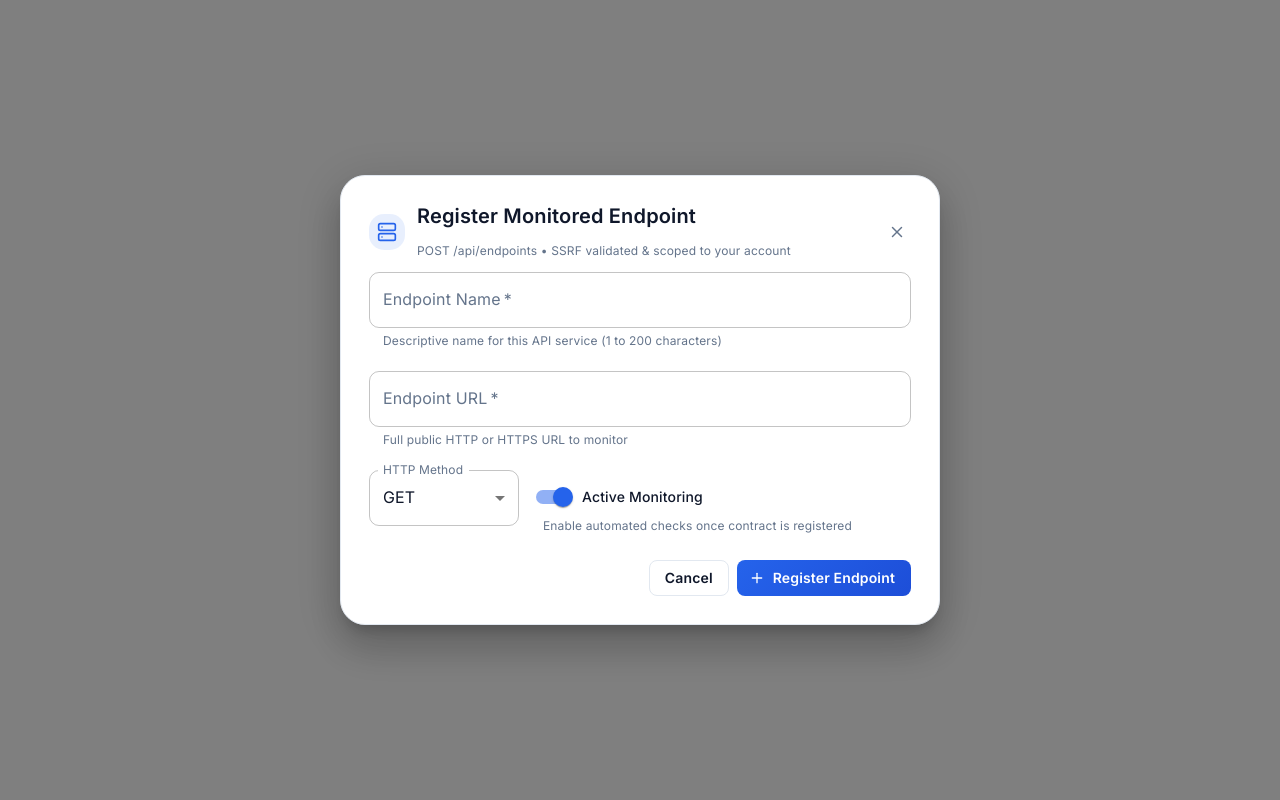
it: AddEndpointDialog › submits valid payload matching backend contract
This screenshot has width=1280, height=800.
Type "Users API" into the field labelled "Endpoint Name *" at (640,300), box x1=369 y1=272 x2=911 y2=328
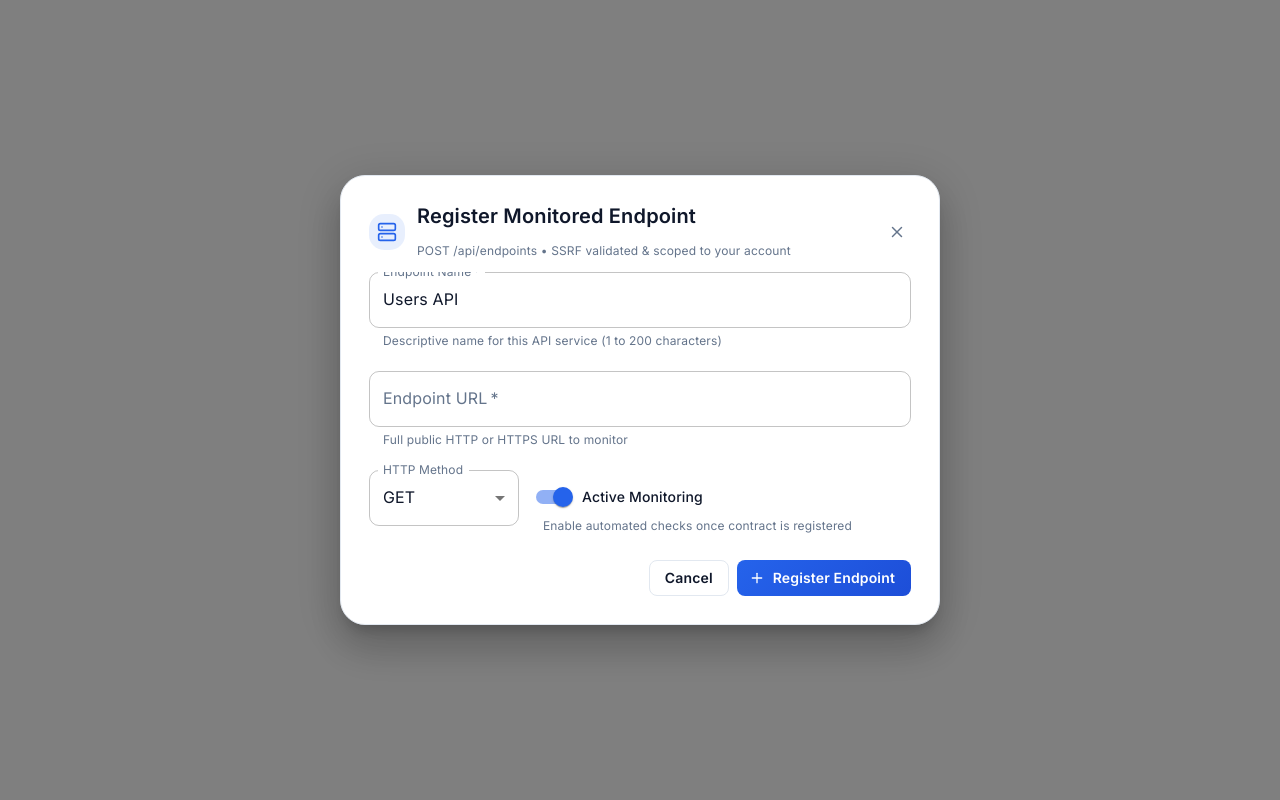
Type "https://api.example.com/v1/users" into the field labelled "Endpoint URL *" at (640,399), box x1=369 y1=371 x2=911 y2=427
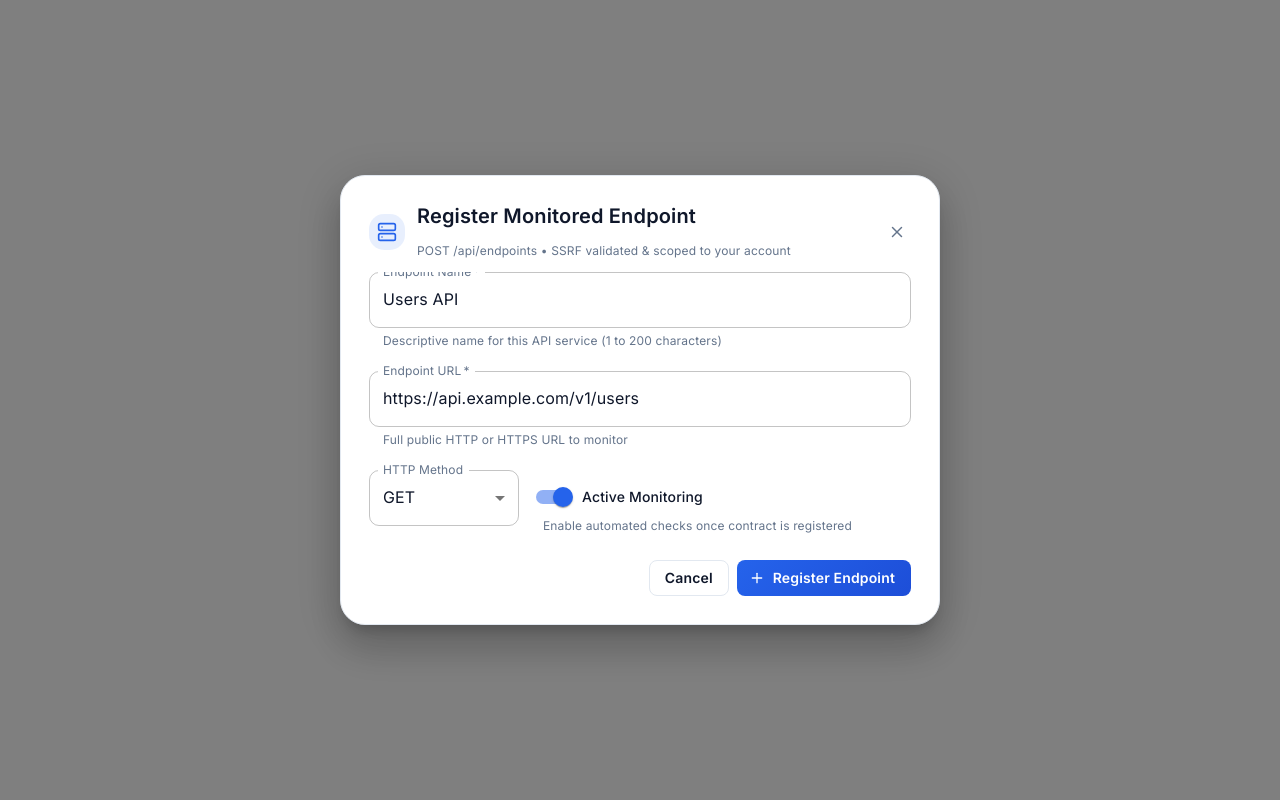
Click the button with test id "submit-endpoint-btn" at (824,578), box x1=737 y1=560 x2=911 y2=596
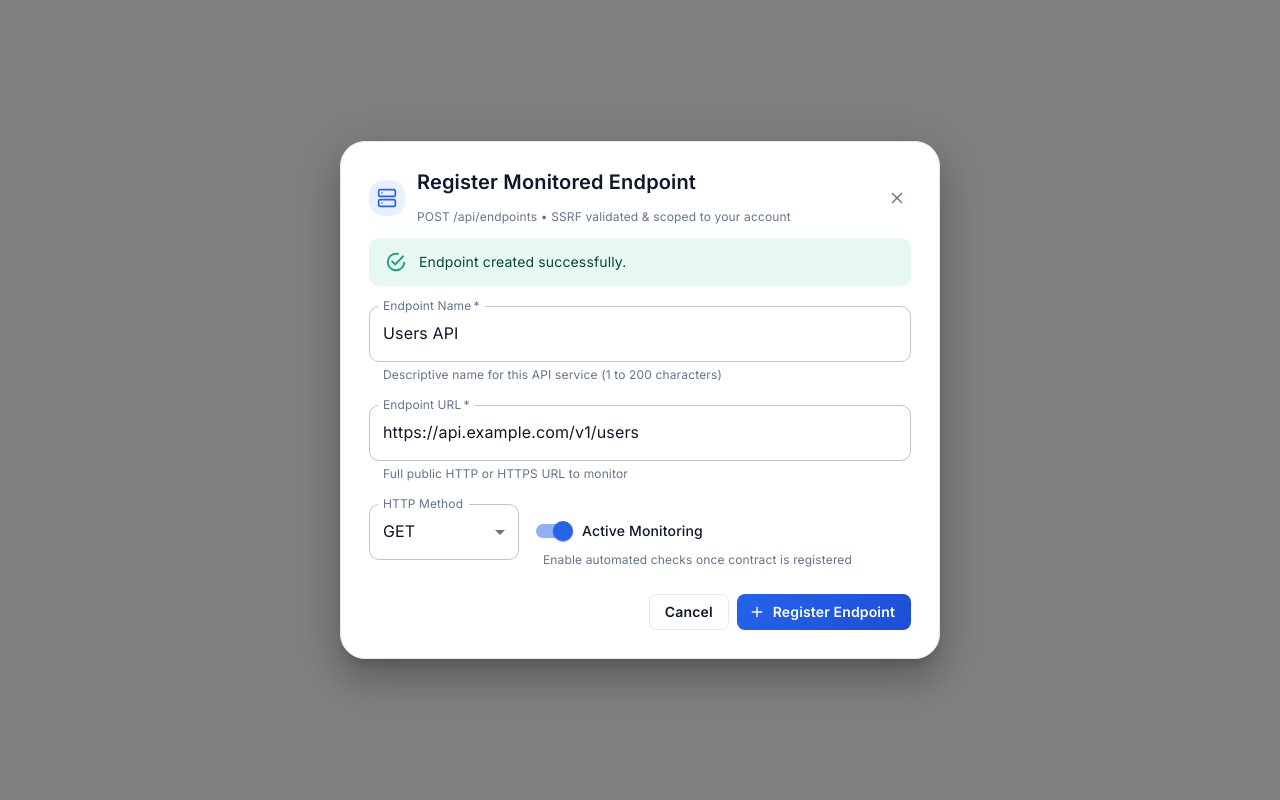
Expected: the text "Endpoint created successfully." is shown, x1=419 y1=253 x2=626 y2=270
